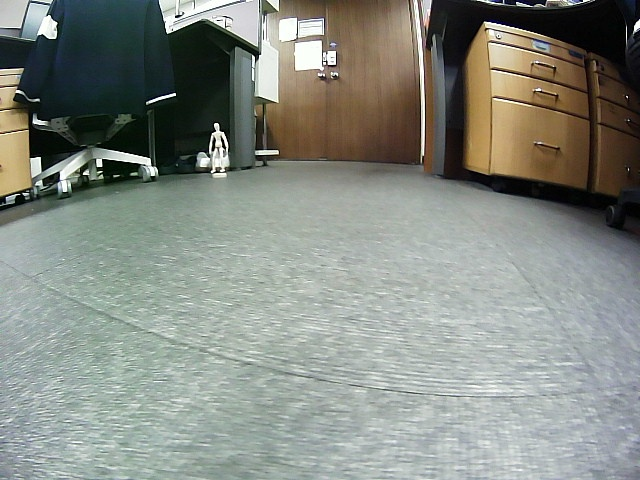person: (209, 122, 228, 174)
